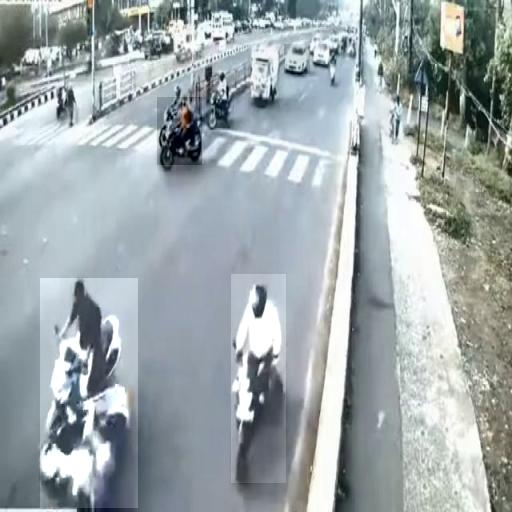小汽车: (248, 46, 280, 109), (284, 44, 310, 74)
自行车: (231, 274, 286, 483), (157, 97, 202, 165), (206, 72, 234, 130)
自行车撞自行车: (40, 278, 138, 508)
